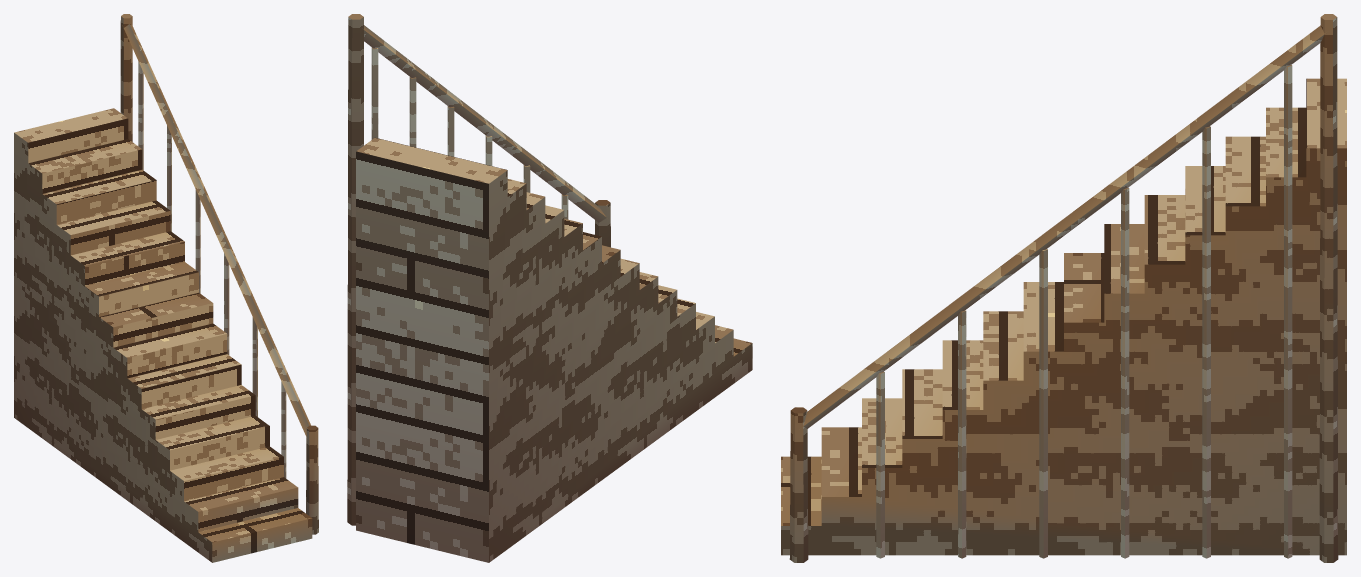
Rendered from wtown.stairs__gallery.glb.
The picture shows the model from 3 angles, left to right: view 1: azimuth 30°, elevation 25°; view 2: azimuth 150°, elevation 25°; view 3: azimuth 270°, elevation 25°; orthographic projection. The views are drawn at different scales.
Visible parts, largest first — view 1: kit_treads, kit_rail, kit_spindles, kit_rail_posts; view 2: kit_treads, kit_rail_posts, kit_rail, kit_spindles; view 3: kit_treads, kit_spindles, kit_rail_posts, kit_rail.
Boxes of the visible parts, x1,y1,x2,y2 form: kit_treads: (14, 108, 312, 562); kit_rail: (122, 24, 310, 437); kit_spindles: (138, 61, 286, 478); kit_rail_posts: (120, 14, 318, 534); kit_treads: (356, 137, 752, 562); kit_rail_posts: (347, 14, 610, 525); kit_rail: (362, 25, 606, 222); kit_spindles: (371, 47, 568, 219); kit_treads: (781, 78, 1346, 555); kit_spindles: (876, 65, 1292, 558); kit_rail_posts: (789, 14, 1338, 562); kit_rail: (799, 25, 1328, 429).
Bounding box in the file's own units: 1.22 × 4 × 3.78.
Materials: 4 (4 with a texture image).
